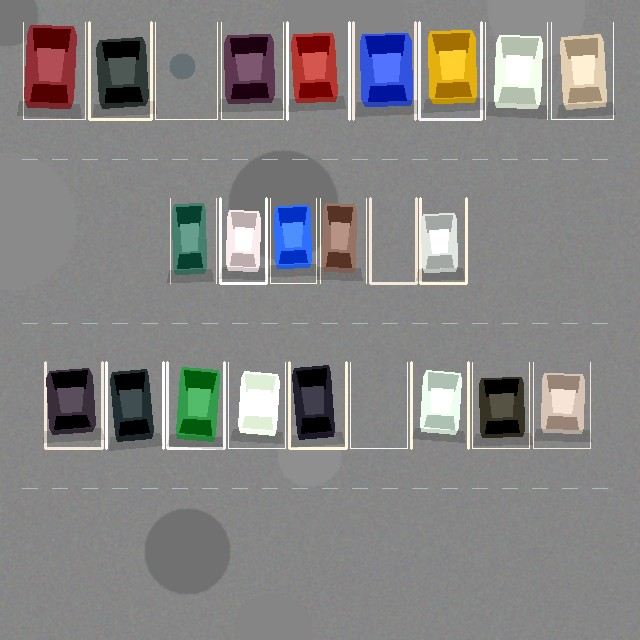space-empty: (155, 22, 217, 119), (350, 362, 407, 448), (370, 198, 416, 283)
space-occupied: (23, 22, 85, 119), (89, 22, 151, 119), (221, 22, 283, 119), (287, 22, 349, 119), (353, 22, 415, 119), (419, 22, 481, 119), (485, 22, 547, 119), (551, 22, 613, 119), (45, 362, 102, 448), (106, 362, 163, 448), (167, 362, 224, 448), (228, 362, 285, 448), (289, 362, 346, 448), (411, 362, 468, 448), (472, 362, 529, 448), (533, 362, 590, 448), (170, 198, 216, 283), (220, 198, 266, 283), (270, 198, 316, 283), (320, 198, 366, 283), (420, 198, 466, 283)
